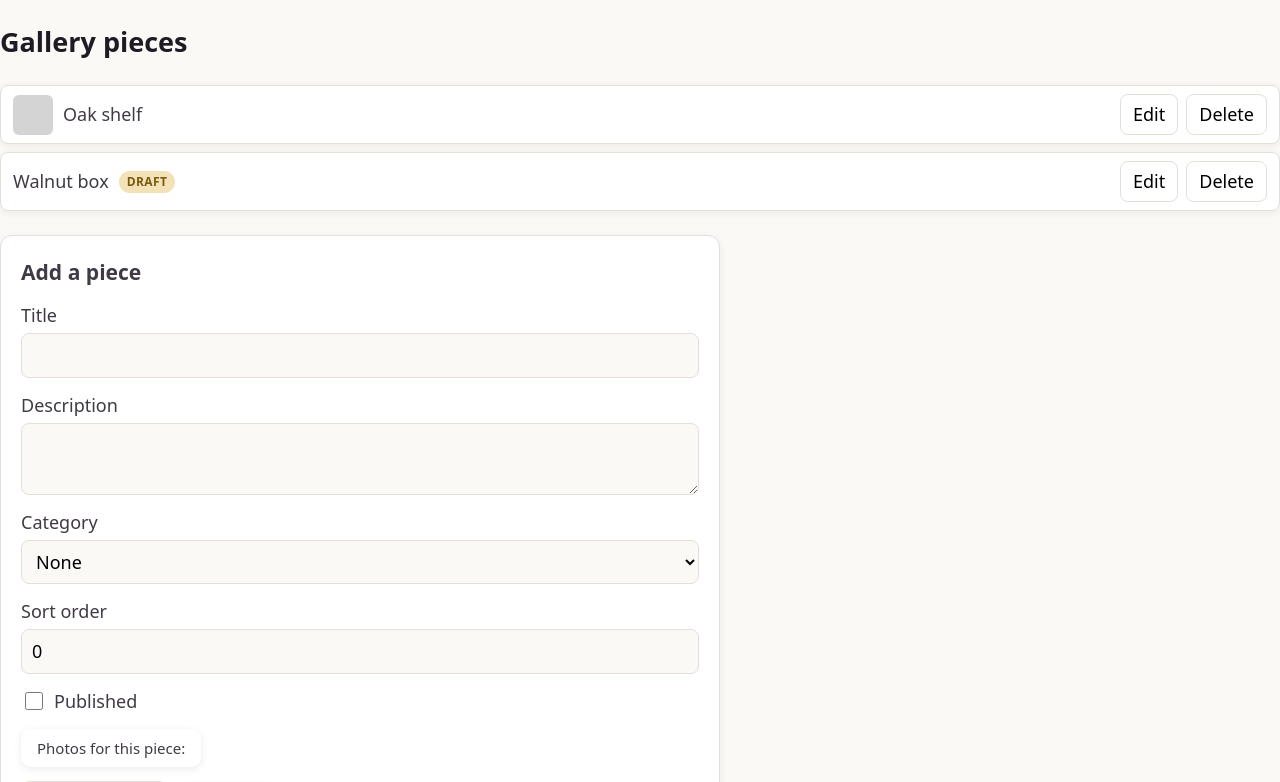
Scenario: GalleryPanel › cancels an edit and resets the form
The width and height of the screenshot is (1280, 782).
Expected: the text "Oak shelf" is shown, [13, 95, 142, 135]
Click the button "Edit" in the row of "Oak shelf" at {"x": 1149, "y": 115}, box [1120, 94, 1178, 135]
(page scrolled)
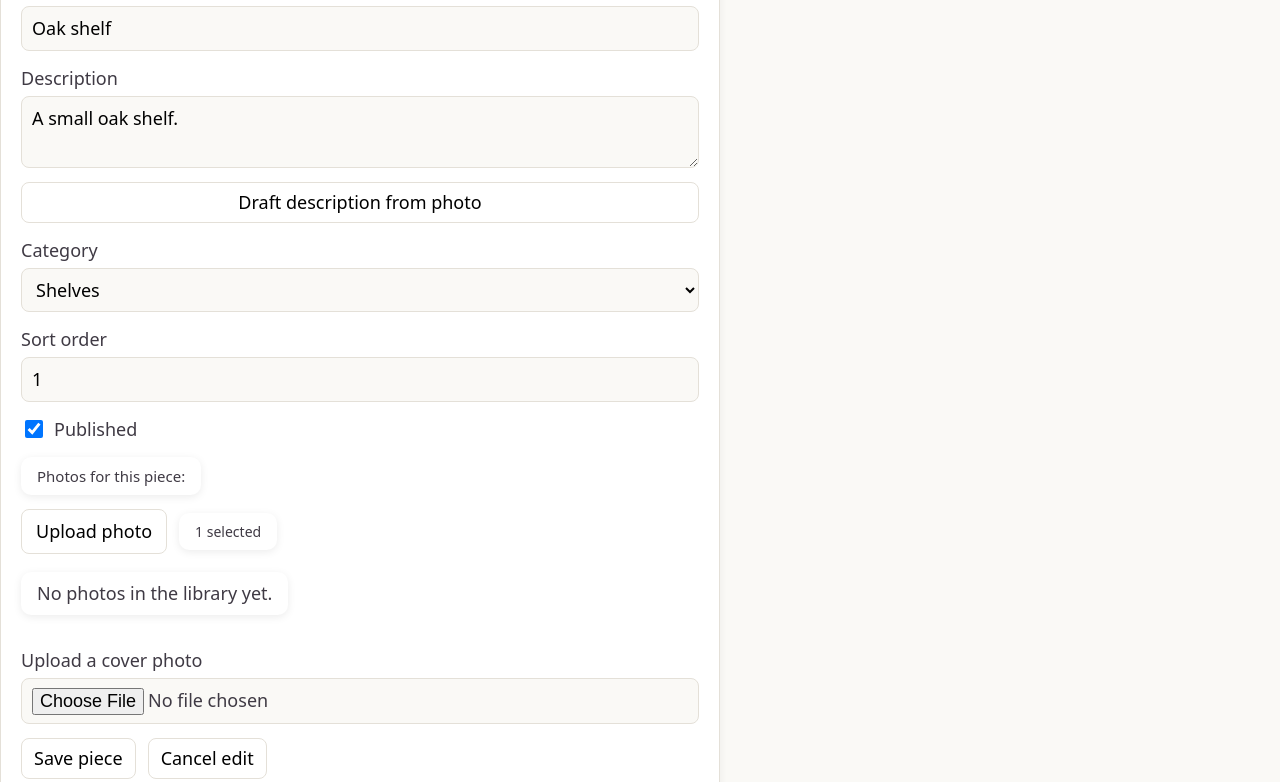
Click the button "Cancel edit" at {"x": 207, "y": 759}, box [148, 738, 267, 779]
(page scrolled)
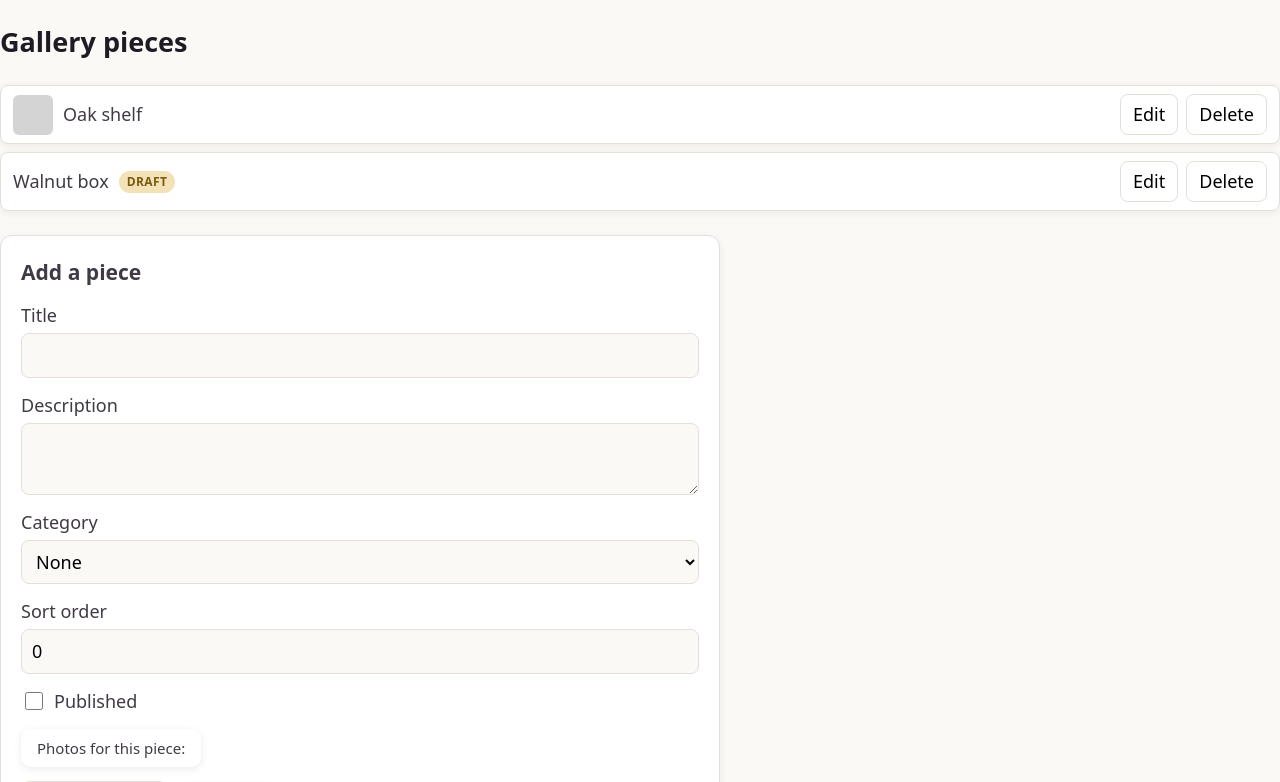
Now the heading "Add a piece" is shown, box [21, 257, 141, 286]
